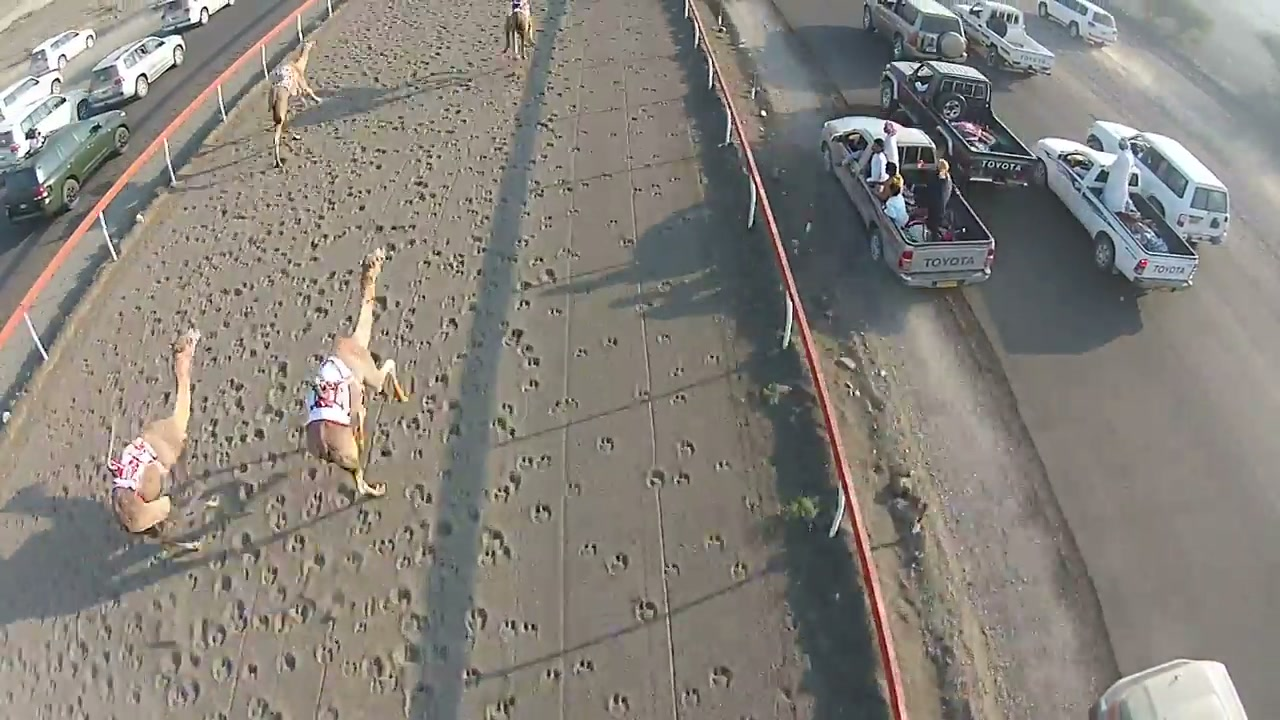animal_foot_print: (59, 0, 771, 719), (606, 552, 629, 574), (646, 468, 666, 488)
